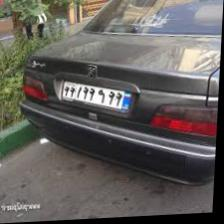plate: (61, 76, 136, 117)
